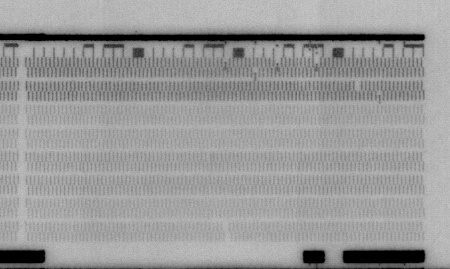Broken hole: (218, 221, 233, 243), (352, 79, 364, 92)
Oblique printing: (311, 57, 325, 72), (374, 89, 387, 105), (271, 56, 284, 71), (220, 57, 232, 73), (250, 66, 260, 83), (204, 151, 216, 163)
